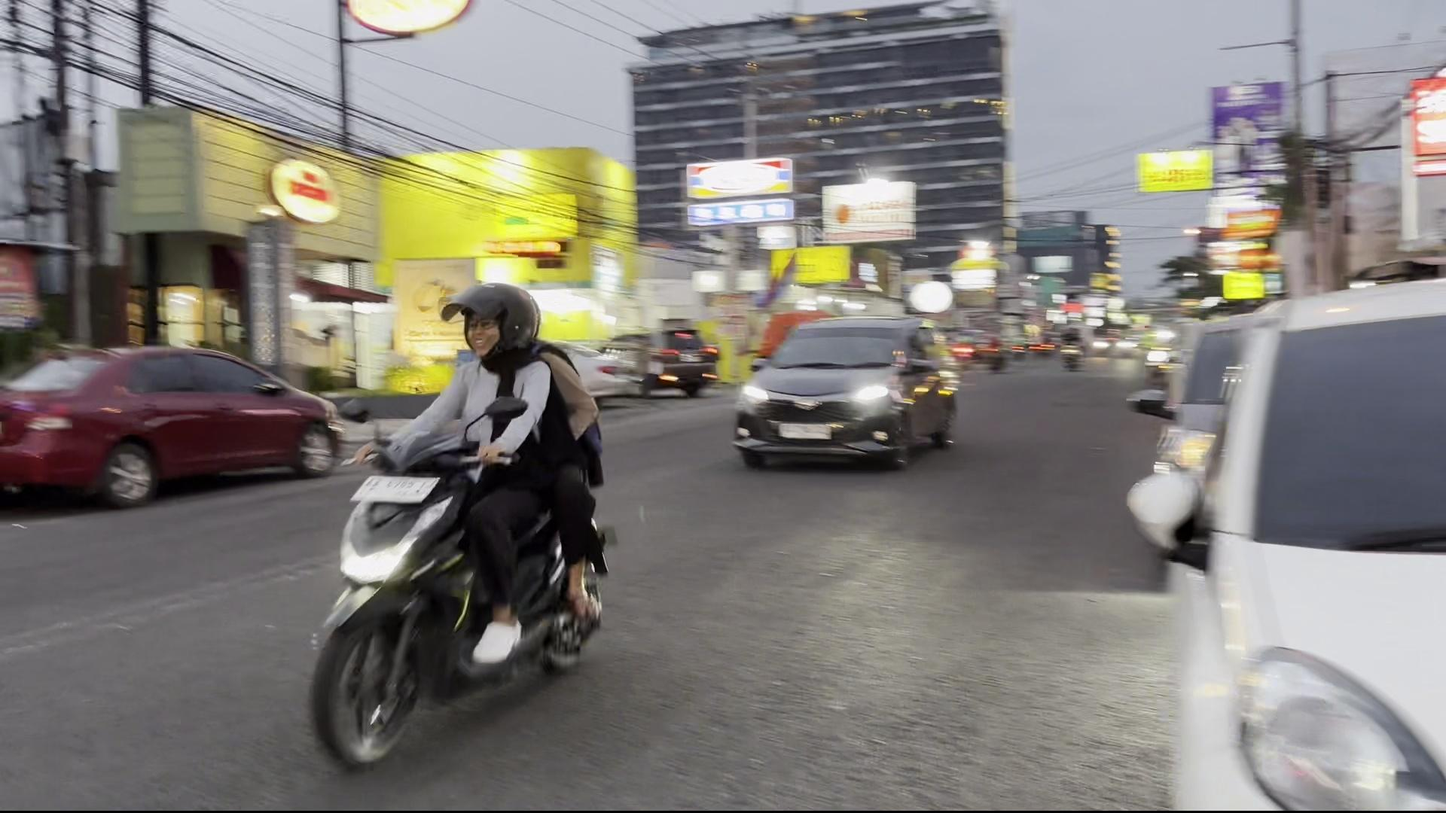helm: (434, 279, 543, 371)
riding: (300, 273, 624, 781)
